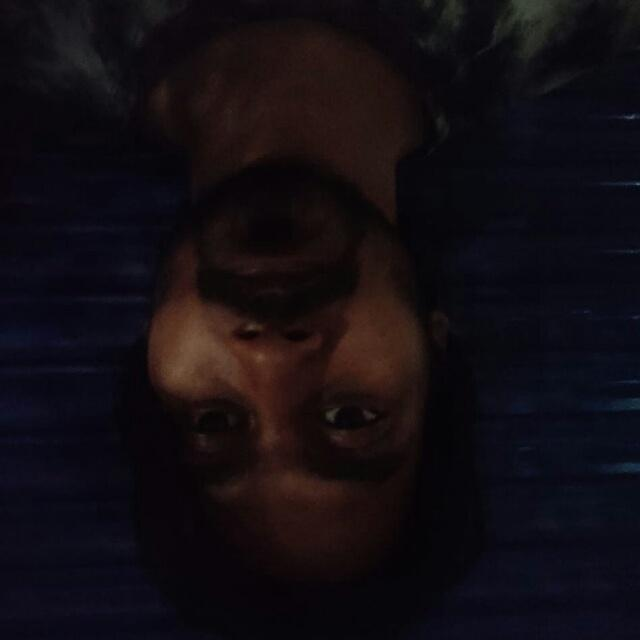Natural: (115, 153, 466, 589)
